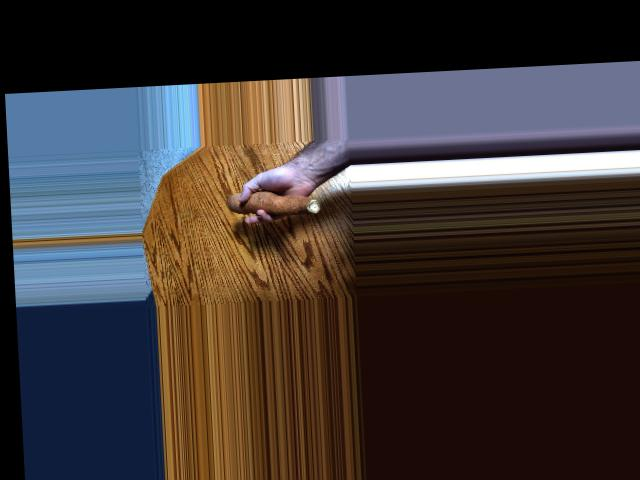sweet_potato: (221, 193, 324, 221)
